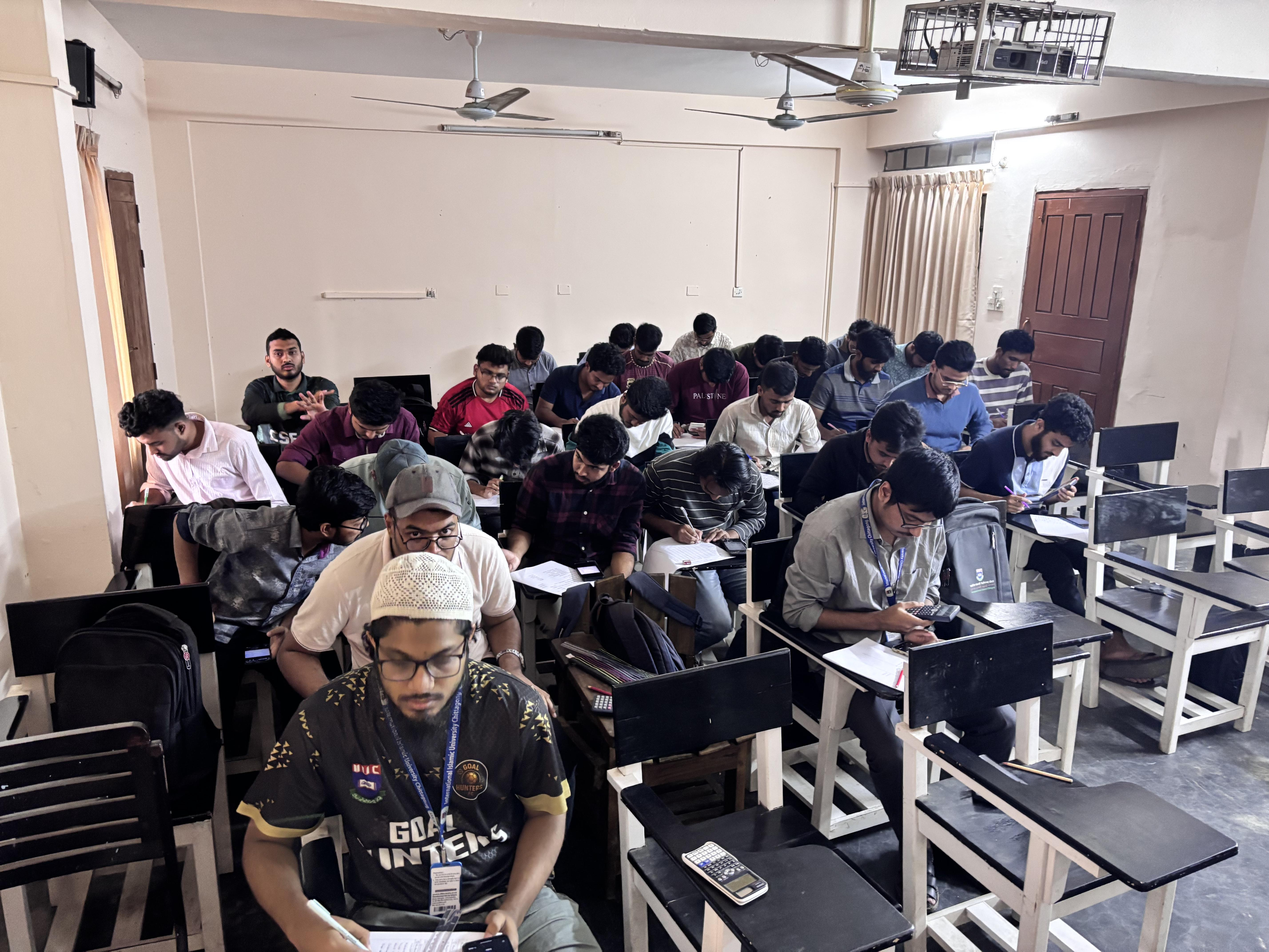copying: (172, 484, 375, 612)
no_cheating: (784, 460, 973, 680), (110, 399, 257, 520), (295, 385, 427, 465), (736, 366, 827, 479), (910, 359, 1006, 458), (835, 329, 909, 441), (447, 411, 551, 488), (978, 326, 1063, 415), (444, 336, 515, 422), (545, 349, 625, 417), (489, 318, 563, 390), (884, 316, 949, 387), (674, 298, 738, 366), (784, 328, 838, 401), (604, 325, 674, 381), (735, 331, 783, 371)
suspicious_moving: (311, 478, 515, 606), (245, 331, 351, 431)
using_phone: (253, 560, 612, 952), (523, 420, 660, 617), (635, 432, 770, 589), (999, 401, 1102, 532), (671, 355, 744, 442)
